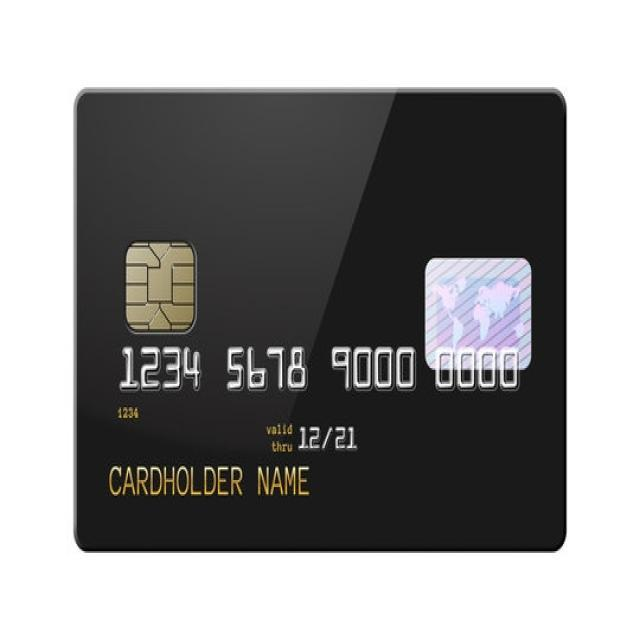payment_card: (73, 86, 567, 552)
